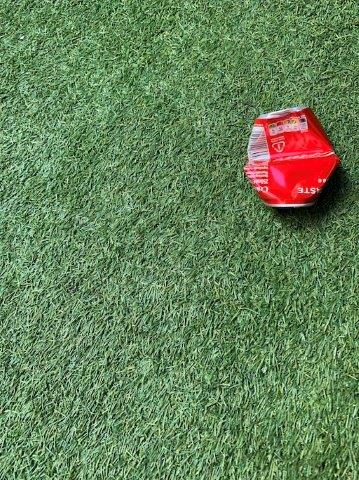kaleng: (246, 106, 337, 205)
